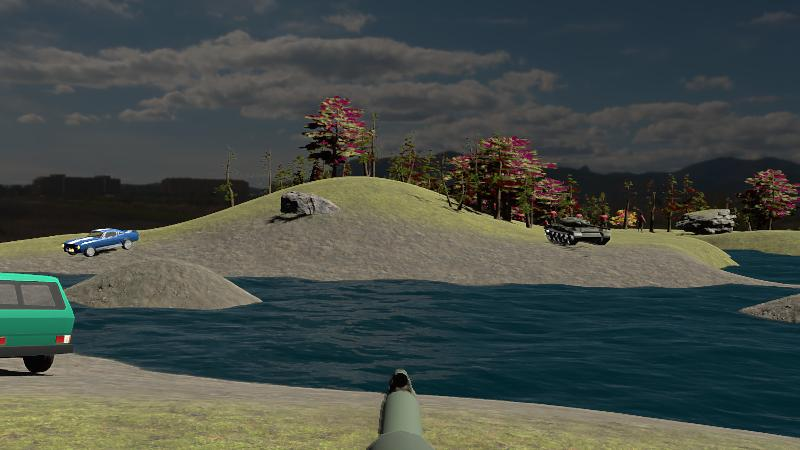Tank: (544, 215, 610, 247)
car: (0, 271, 74, 378), (63, 226, 140, 258)
